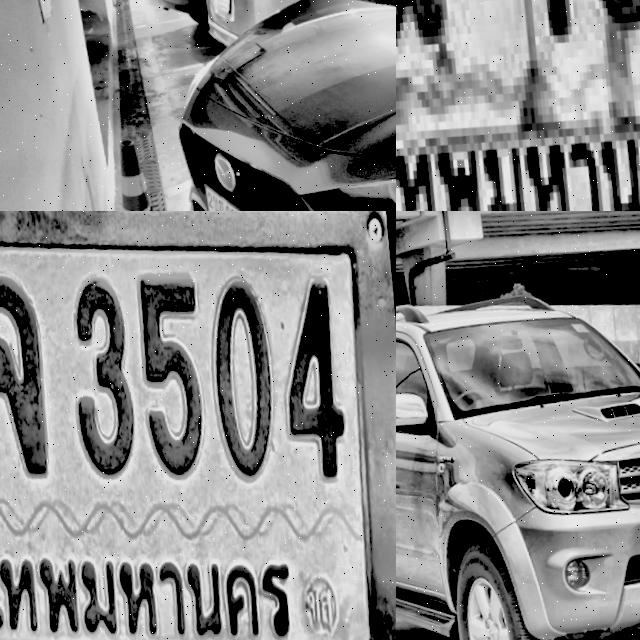license-plate: (0, 211, 396, 640), (396, 0, 640, 211), (202, 172, 260, 211), (211, 0, 234, 15)
